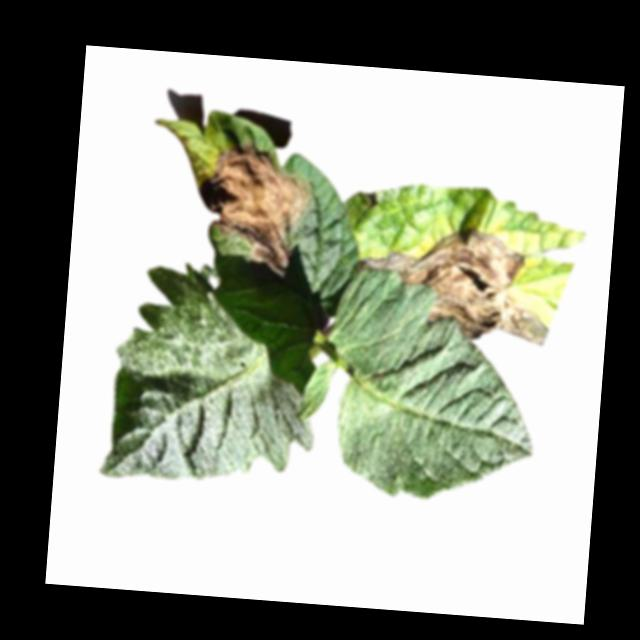Late_blight: (352, 217, 556, 348), (193, 133, 316, 272)
